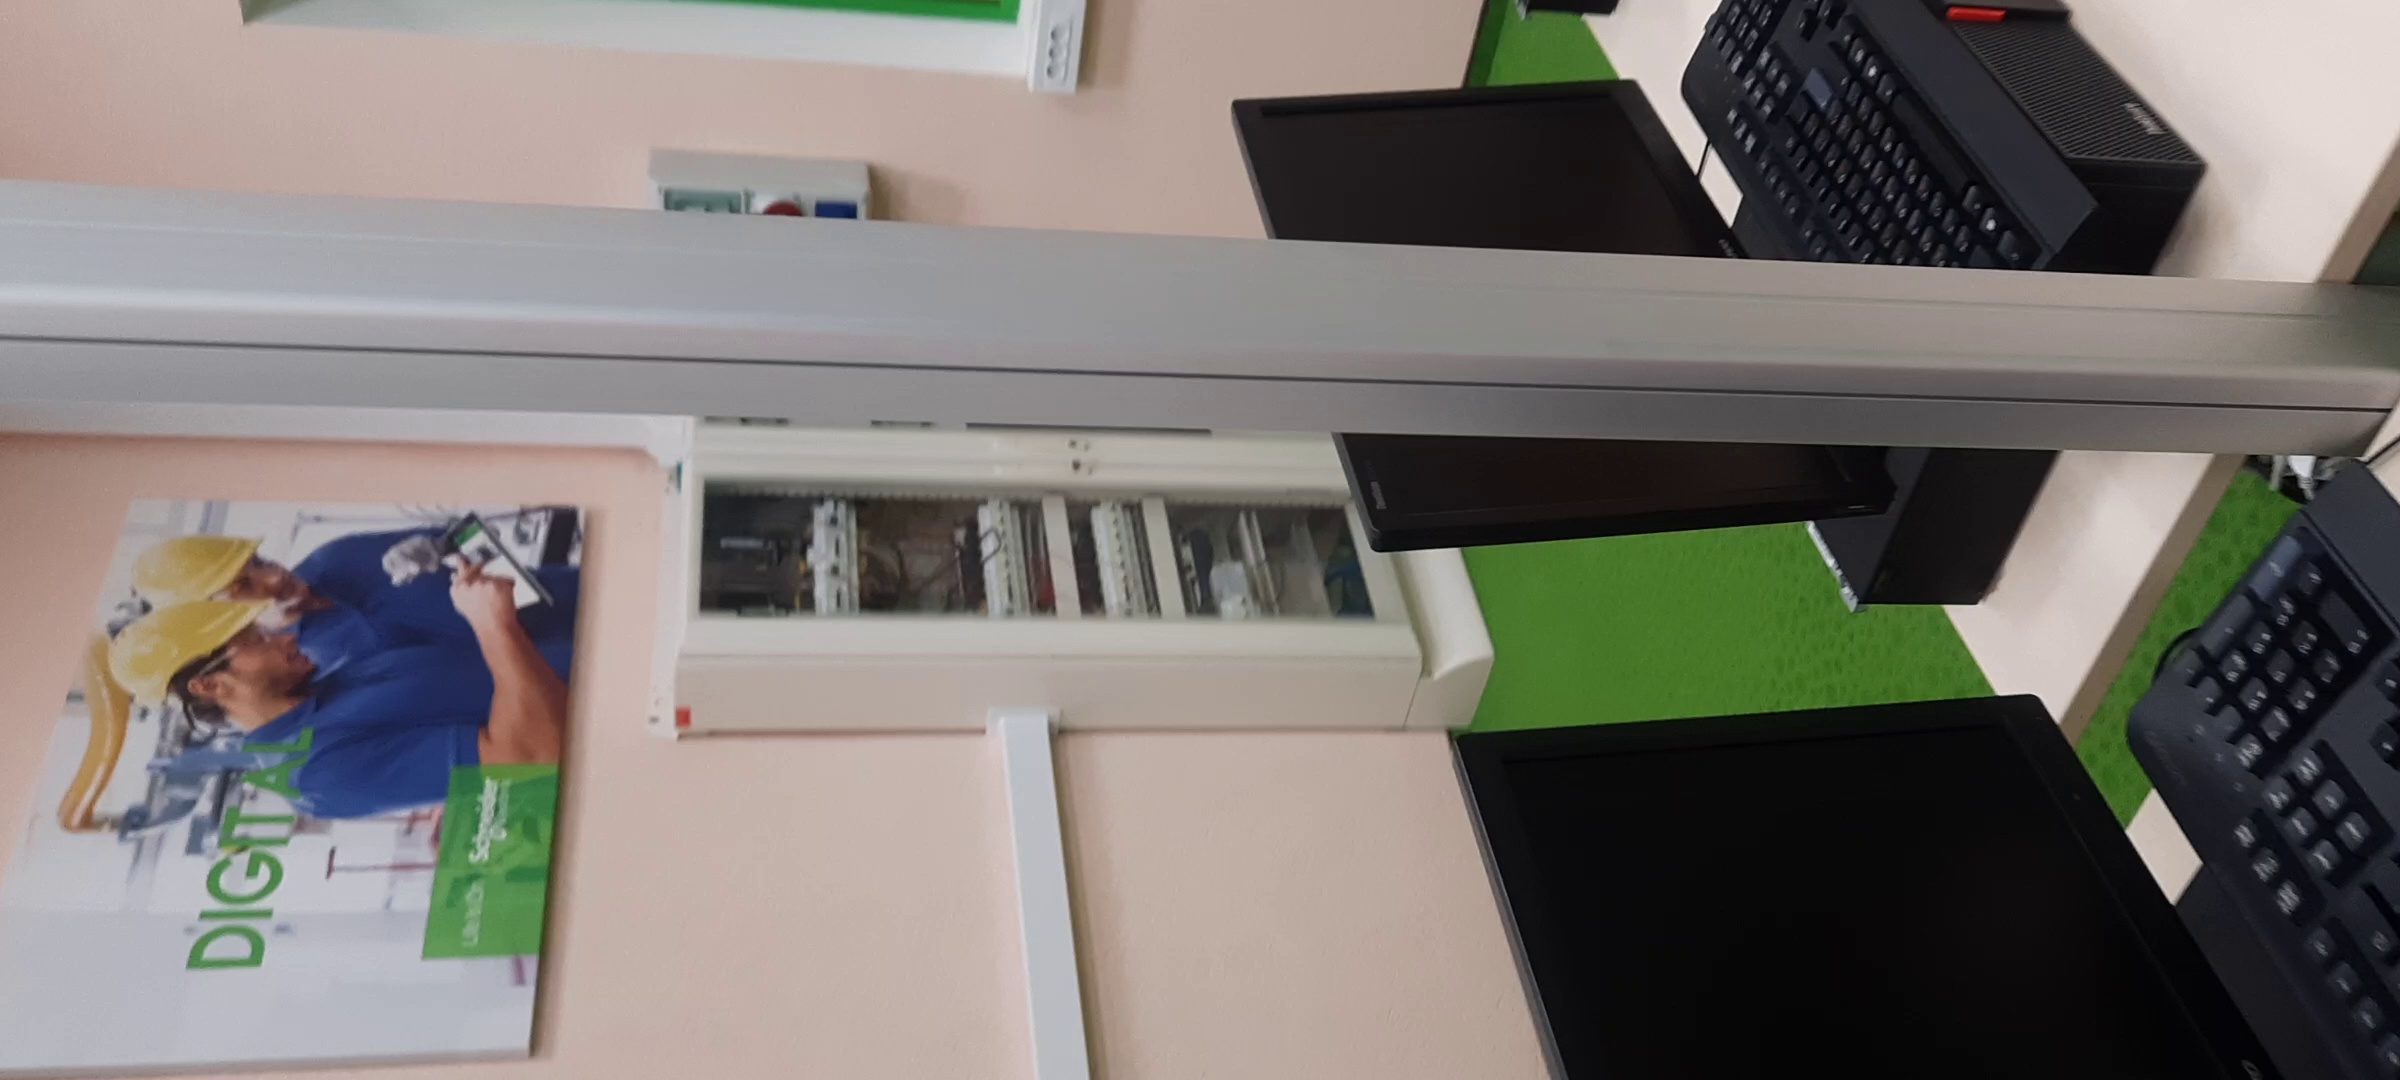stand1: (661, 434, 1449, 731)
